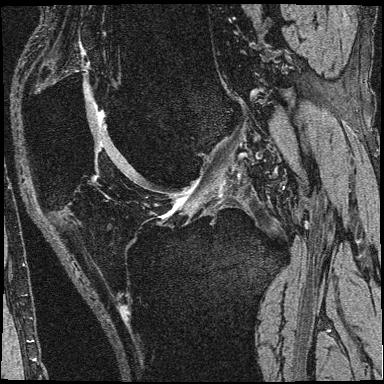KneeJointArea_Lat: (20, 68, 292, 335)
